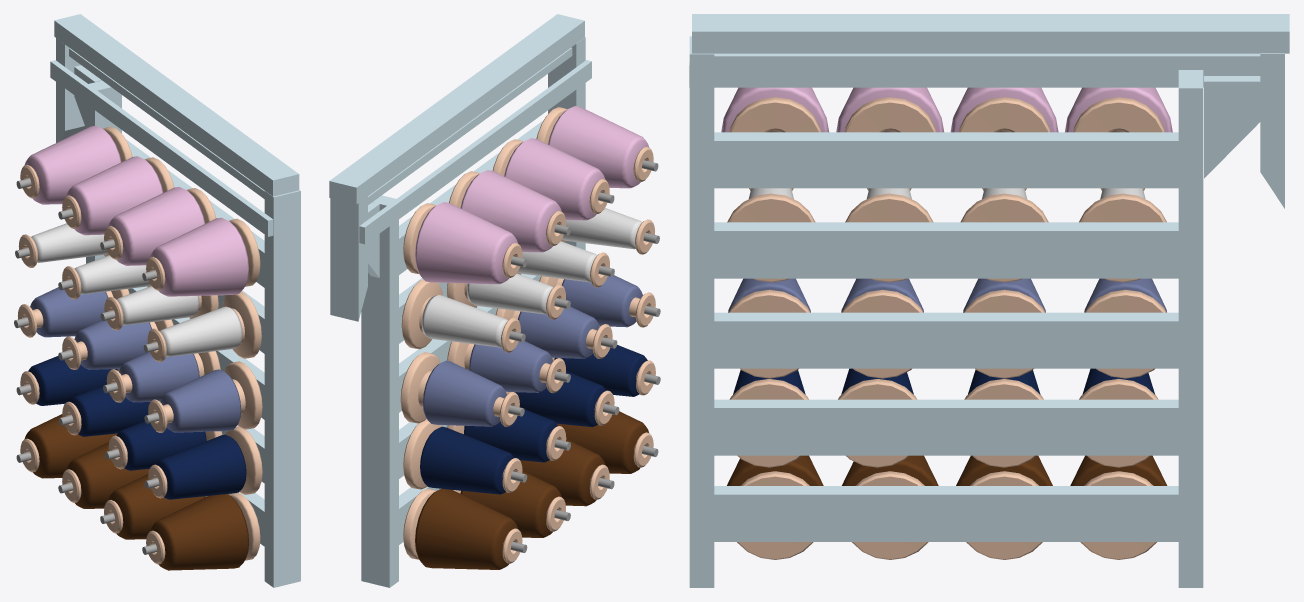
Rendered from bobbinholder2.fbx.
3 renders of one model, left to right at view 1: azimuth 30°, elevation 25°; view 2: azimuth 150°, elevation 25°; view 3: azimuth 270°, elevation 25°, orthographic. The views are drawn at different scales.
Visible parts, largest first — view 1: pCube15; view 2: pCube15; view 3: pCube15.
Boxes of the visible parts, x1,y1,x2,y2 form: pCube15: [14, 14, 300, 587]; pCube15: [329, 14, 660, 587]; pCube15: [689, 14, 1289, 587].
Size of the model in its own units: 23.38 by 72.33 by 70.79.
